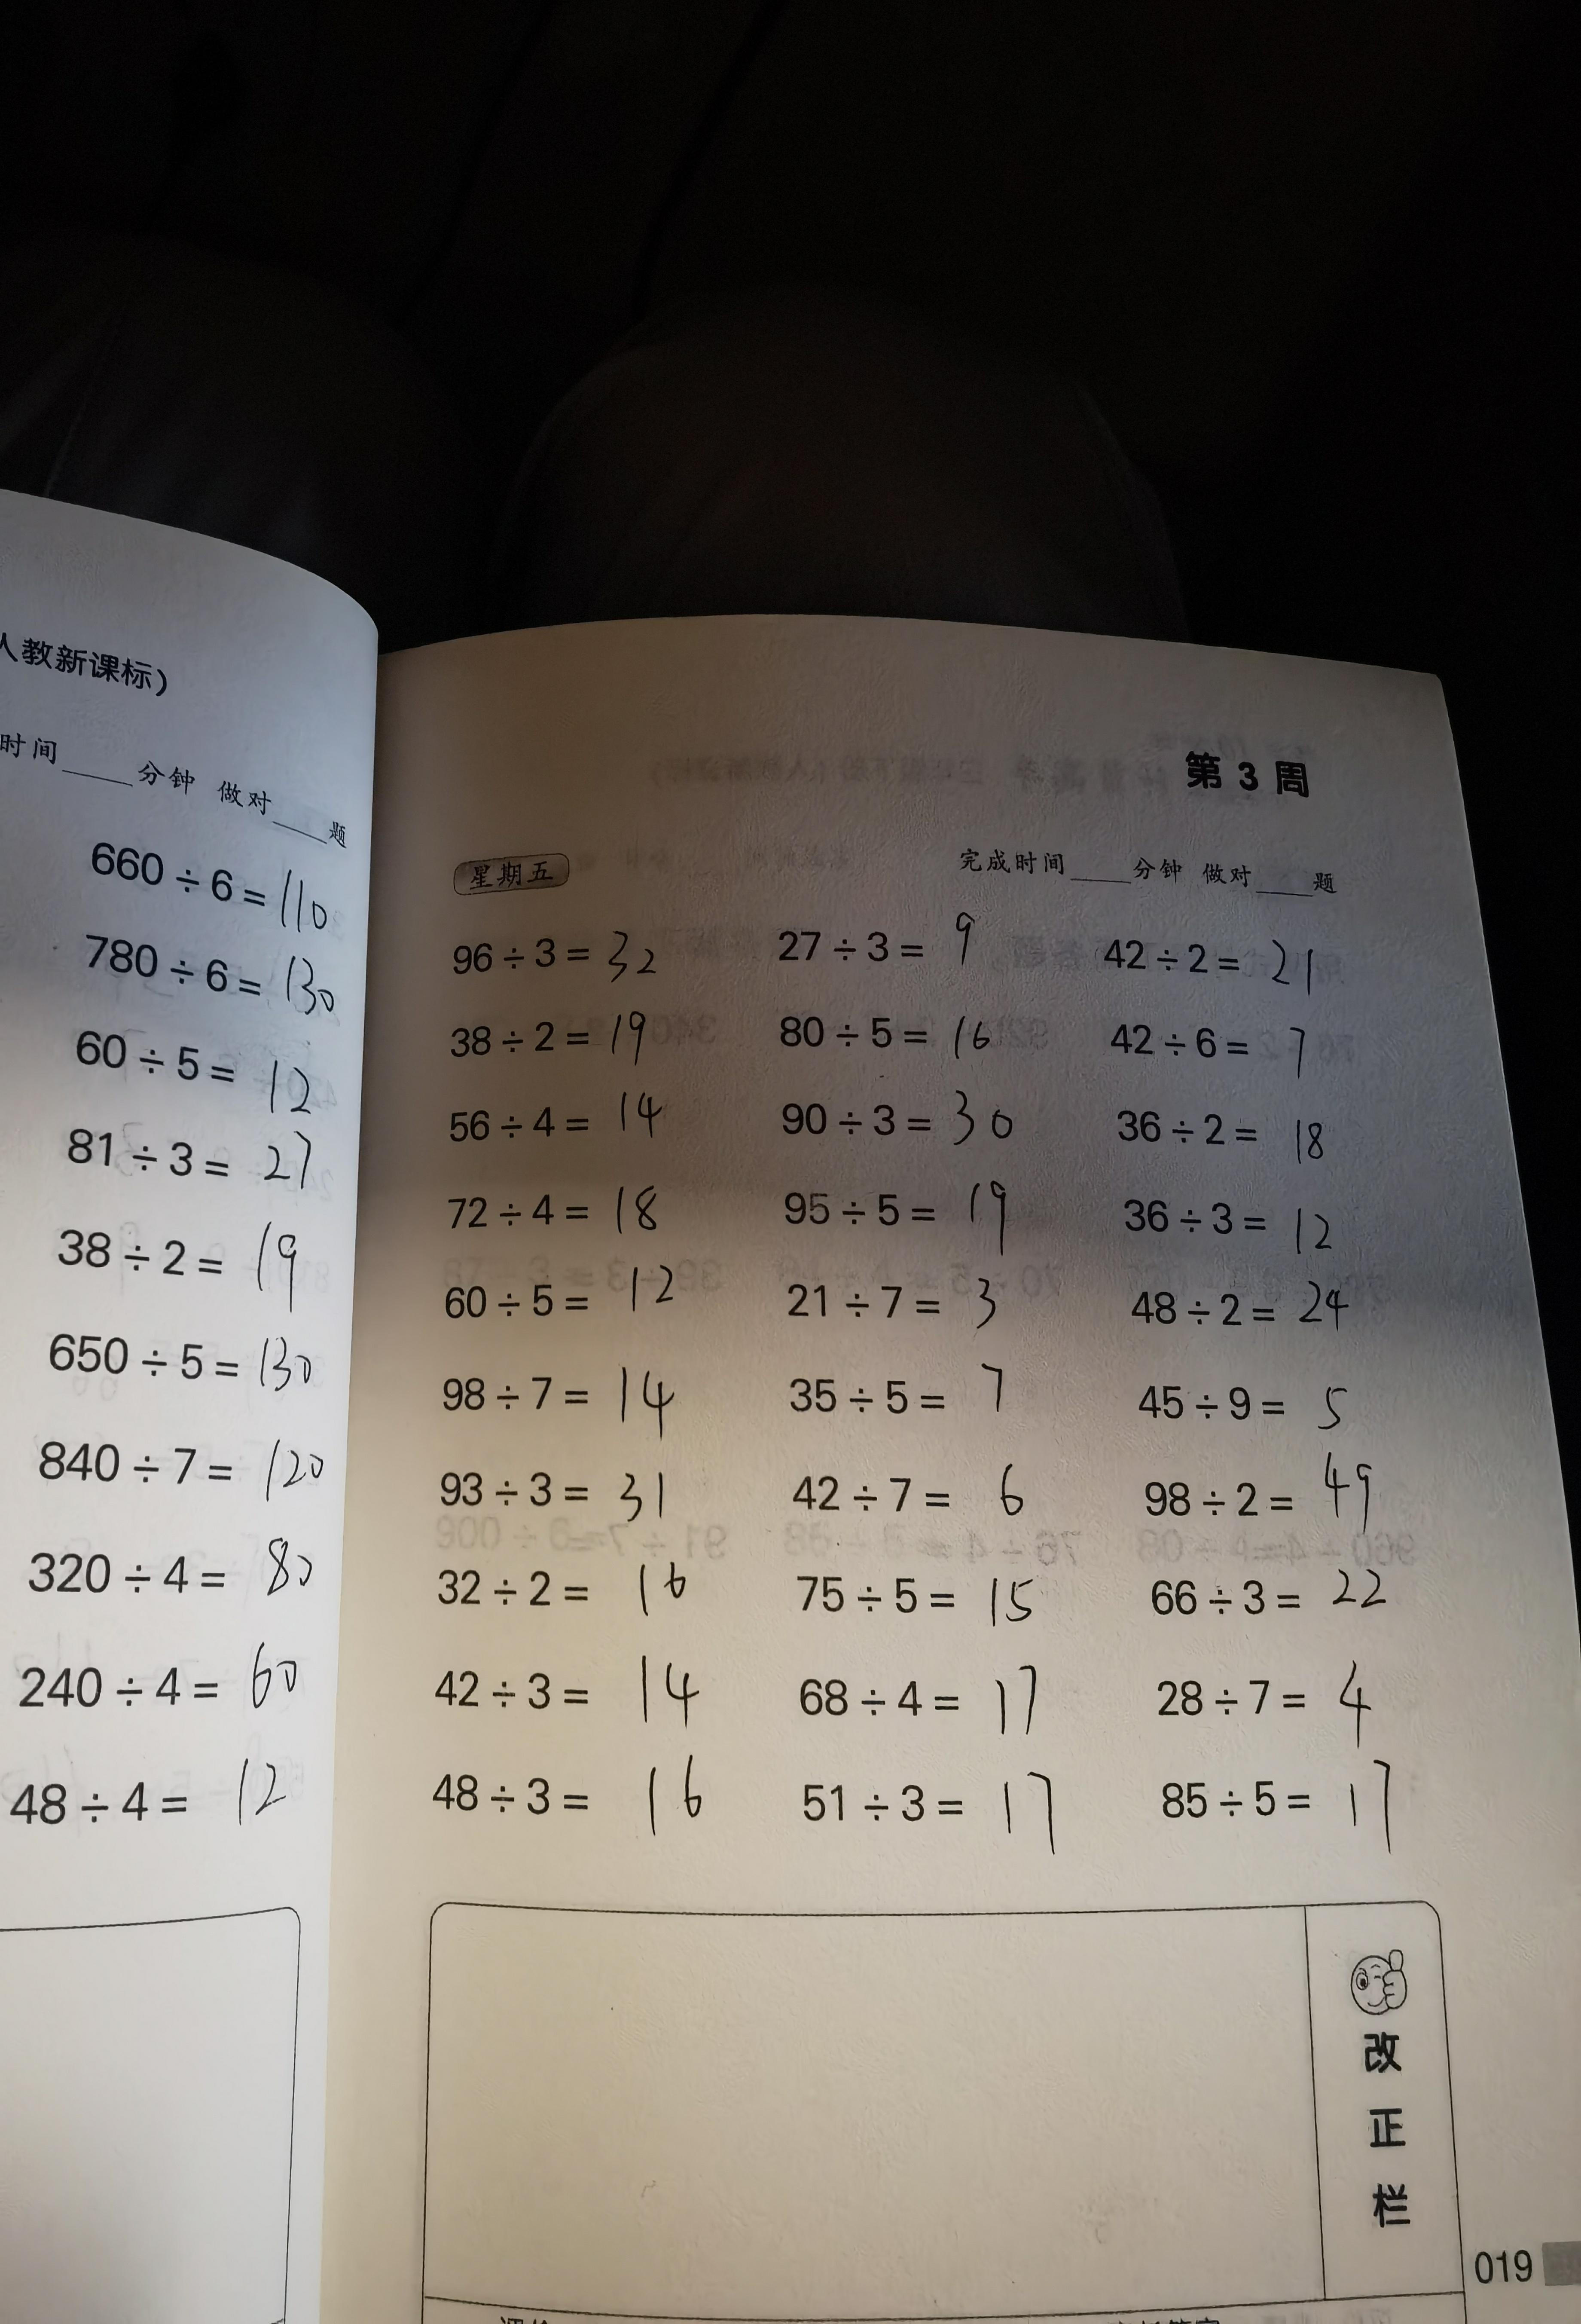equation: (1117, 1758, 1417, 1863), (409, 1655, 743, 1749), (1131, 1451, 1406, 1551), (785, 1659, 1087, 1749), (1090, 1346, 1367, 1440), (783, 1763, 1076, 1851), (768, 1361, 1059, 1449), (415, 1756, 745, 1833), (1122, 1553, 1412, 1638), (787, 1546, 1048, 1636), (752, 1269, 1036, 1350), (1147, 1659, 1382, 1756), (411, 1449, 688, 1530), (761, 1073, 1038, 1152), (432, 1549, 711, 1620), (1099, 923, 1341, 1004), (782, 1184, 1036, 1258), (1113, 1184, 1353, 1262), (790, 1456, 1041, 1530), (766, 900, 993, 981), (418, 1359, 681, 1428), (423, 1182, 706, 1244), (432, 914, 678, 985), (1101, 1092, 1364, 1158), (761, 1001, 1004, 1066), (1101, 1016, 1346, 1076), (445, 1004, 667, 1068), (441, 1267, 708, 1320), (446, 1092, 671, 1151), (1122, 1286, 1376, 1331)
